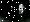person: (19, 4, 25, 16), (9, 5, 15, 14)
